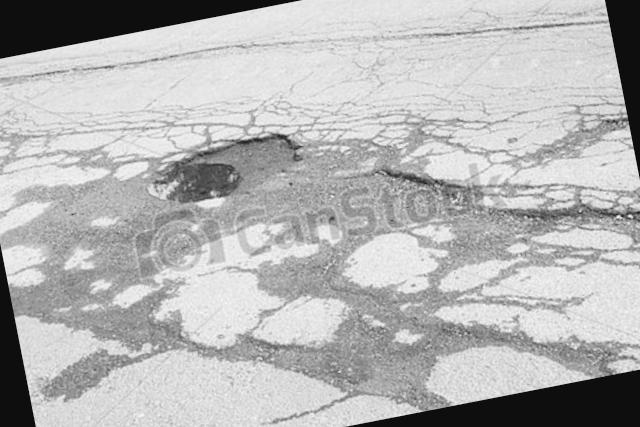Pothole: (139, 193, 640, 427), (136, 109, 324, 227)
